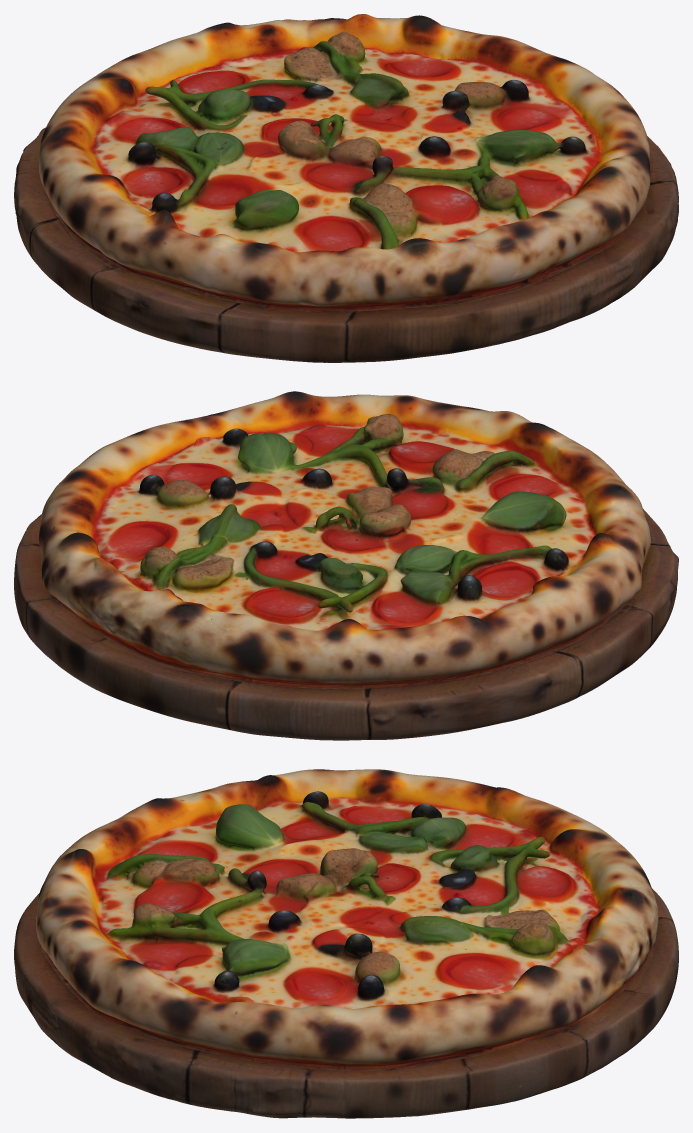
File: pizza.glb
The picture shows the model from 3 angles, top to bottom: view 1: azimuth 30°, elevation 25°; view 2: azimuth 150°, elevation 25°; view 3: azimuth 270°, elevation 25°; orthographic projection.
Bounding box in the file's own units: 2 × 0.3713 × 2.
1 material, 1 textured.
